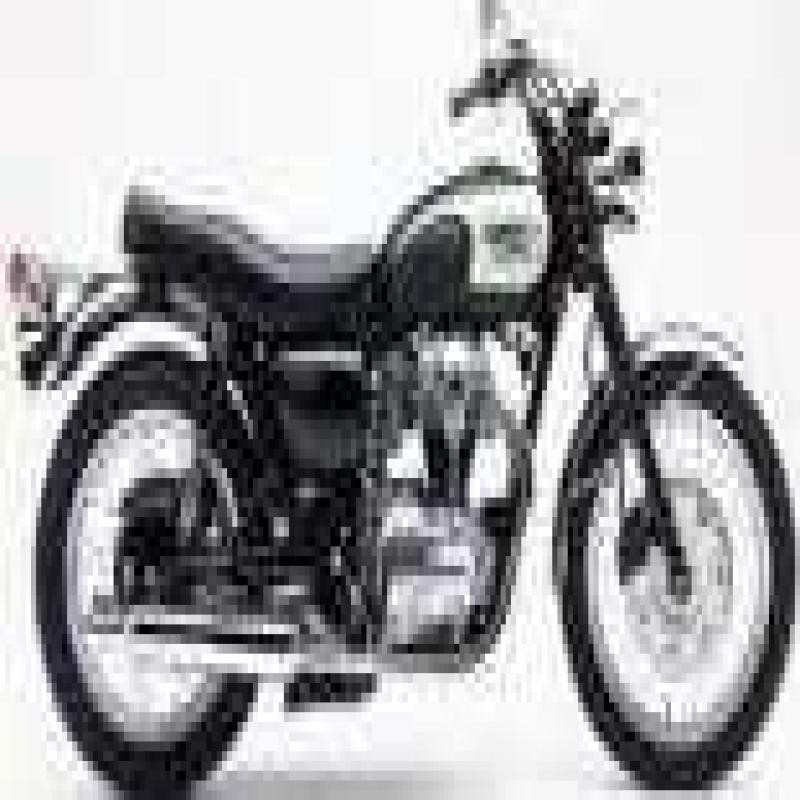bike: (17, 6, 787, 784)
